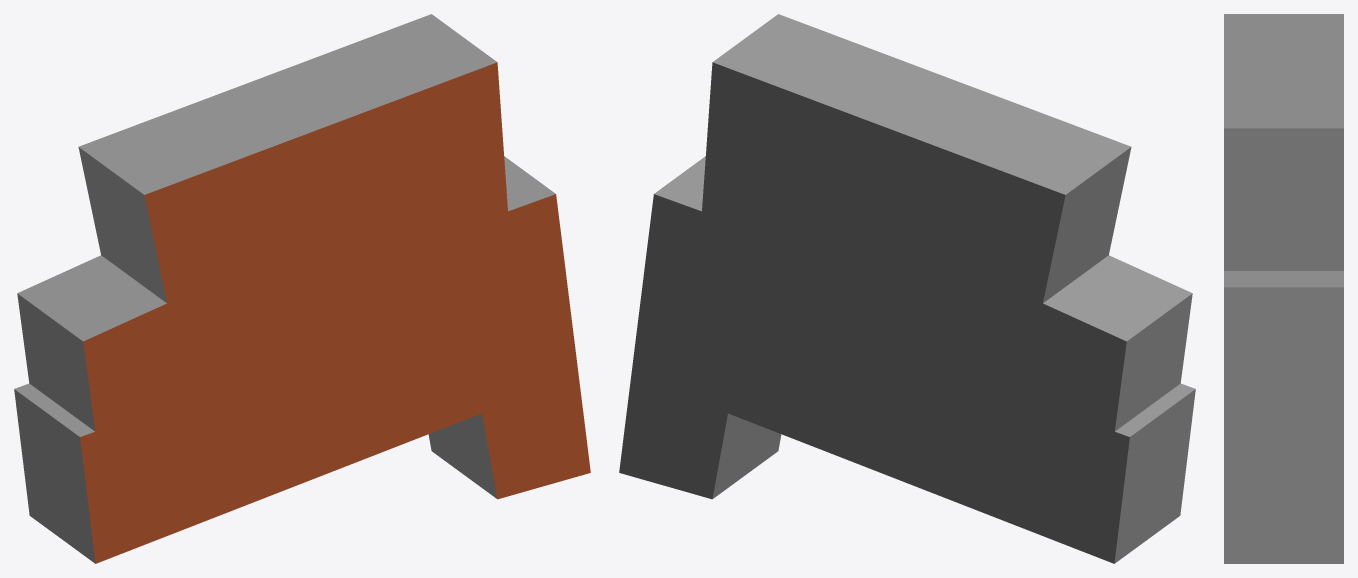
Rendered from construction_4680_assumed_A_Casa_h6m.obj.
3 views of the same model, side by side, from view 1: azimuth 30°, elevation 25°; view 2: azimuth 150°, elevation 25°; view 3: azimuth 270°, elevation 25° (orthographic). The views are drawn at different scales.
Visible parts, largest first — view 1: construction_4680_assumed_A_Casa; view 2: construction_4680_assumed_A_Casa; view 3: construction_4680_assumed_A_Casa.
Part boxes in pixels (x1,y1,x2,y2): construction_4680_assumed_A_Casa: (14,14,590,563); construction_4680_assumed_A_Casa: (619,14,1195,563); construction_4680_assumed_A_Casa: (1224,14,1343,563).
Size of the model in its own units: 26.84 by 21.95 by 6.
